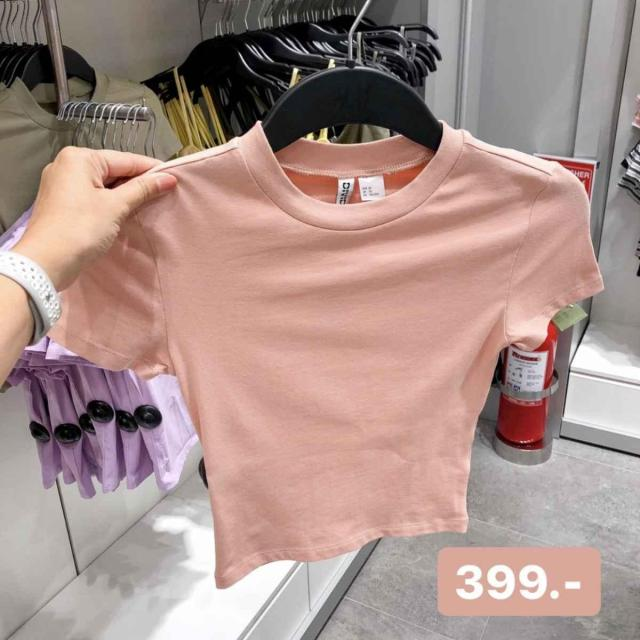Tshirt: (42, 131, 580, 544)
